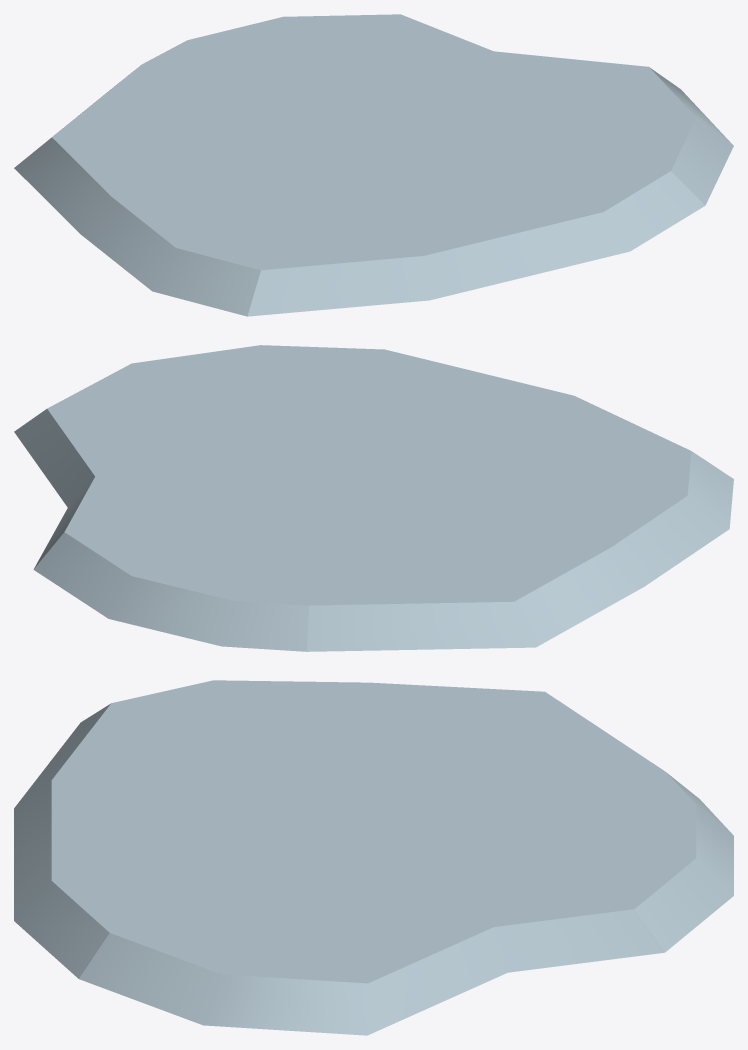
Rendered from dust.fbx.
3 views of the same model, one above another, from view 1: azimuth 30°, elevation 25°; view 2: azimuth 150°, elevation 25°; view 3: azimuth 270°, elevation 25° (orthographic). The views are drawn at different scales.
Visible parts, largest first — view 1: dust; view 2: dust; view 3: dust.
Boxes of the visible parts, left/top/right/bottom form: dust: left=14, top=14, right=733, bottom=316; dust: left=14, top=345, right=733, bottom=651; dust: left=14, top=680, right=733, bottom=1035.
Size of the model in its own units: 2.22 by 0.1051 by 1.99.
